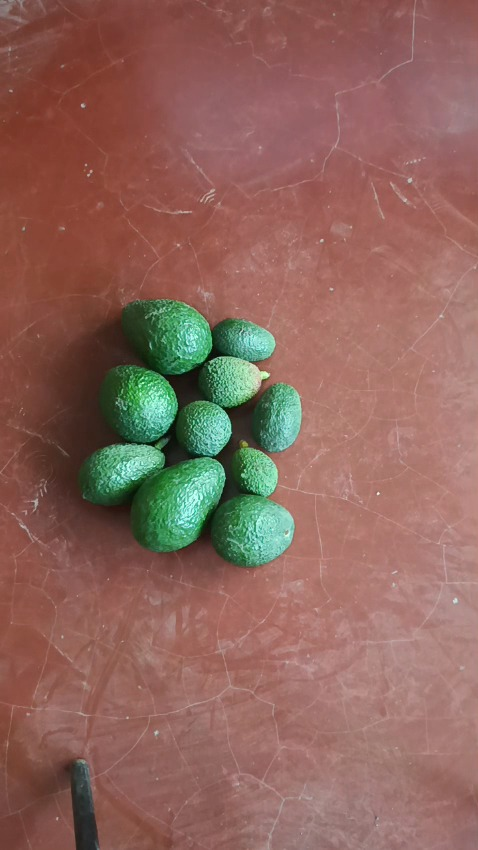Primera: (129, 456, 227, 550), (120, 298, 213, 374), (98, 364, 178, 442)
Segunda: (209, 495, 293, 565), (78, 442, 166, 505)
Tercera: (198, 356, 267, 408), (251, 383, 302, 451), (175, 401, 232, 457), (211, 318, 277, 362), (231, 447, 278, 497)
